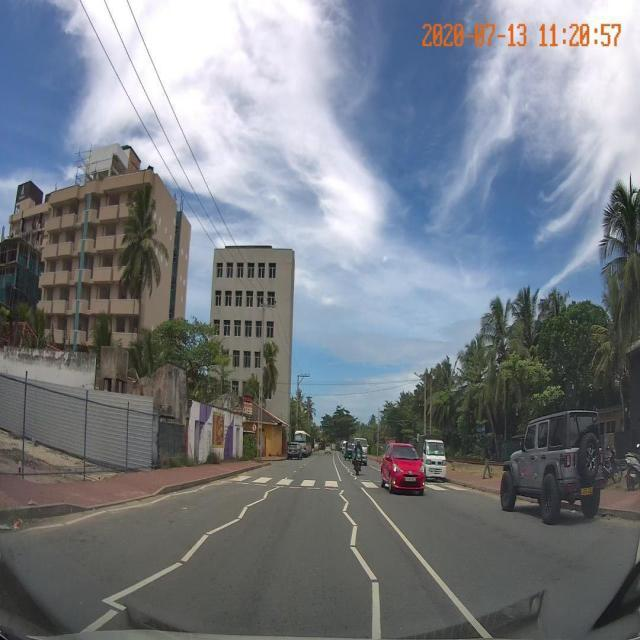Liniya 1: (360, 487, 493, 638), (101, 560, 185, 605), (349, 546, 378, 581), (180, 533, 211, 563), (205, 517, 241, 535), (371, 581, 382, 639), (342, 511, 358, 525), (246, 497, 266, 507), (349, 524, 358, 546), (237, 505, 249, 519), (334, 463, 342, 481), (342, 502, 350, 512), (340, 494, 350, 502), (267, 487, 281, 492), (263, 491, 269, 499), (338, 489, 345, 495)
Perehod: (226, 475, 339, 487)
